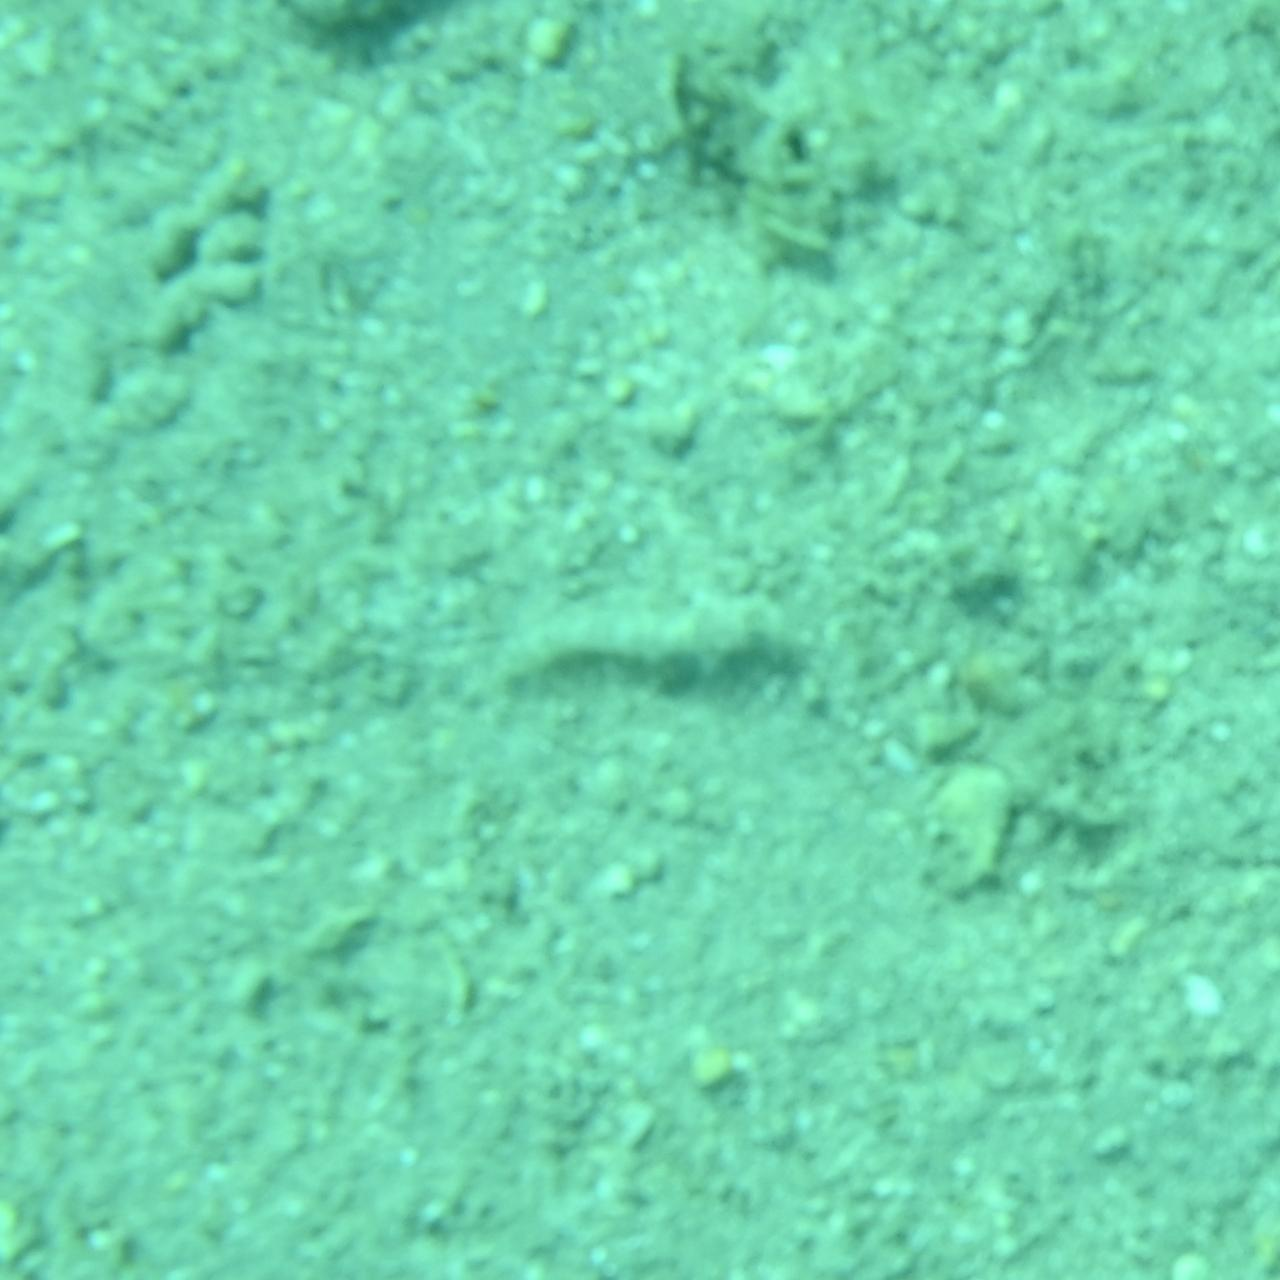Gobius sp: (458, 547, 822, 733)
